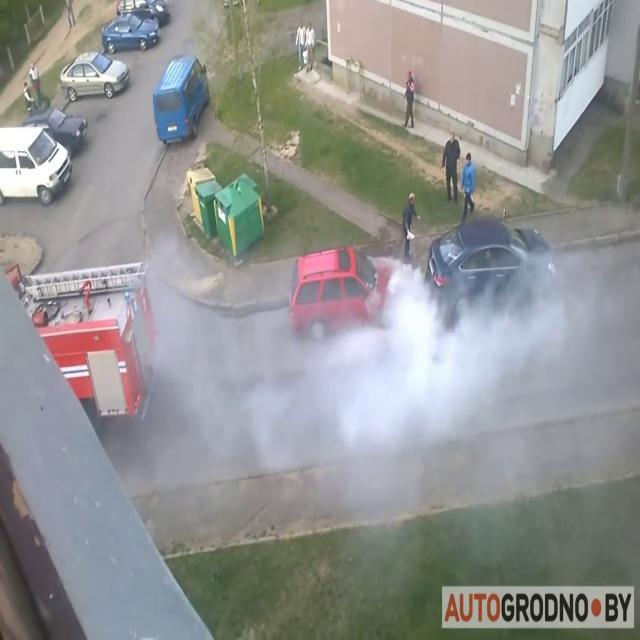Smoke: (253, 223, 639, 447), (124, 240, 314, 477)
